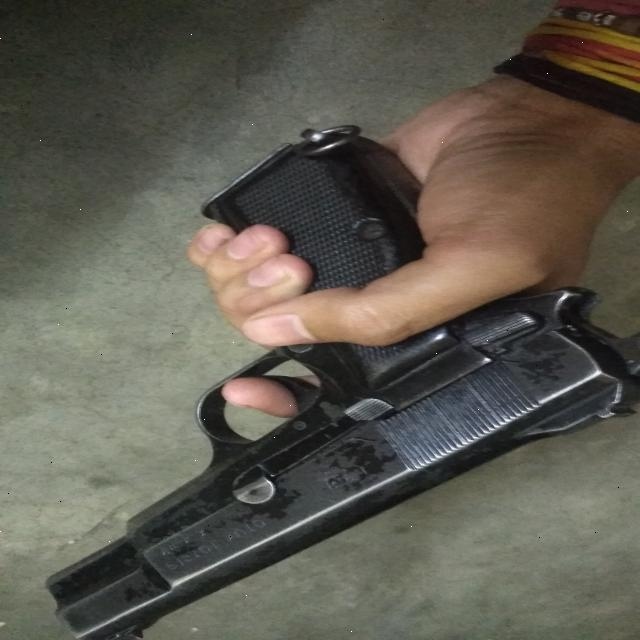gun: (30, 95, 640, 640)
